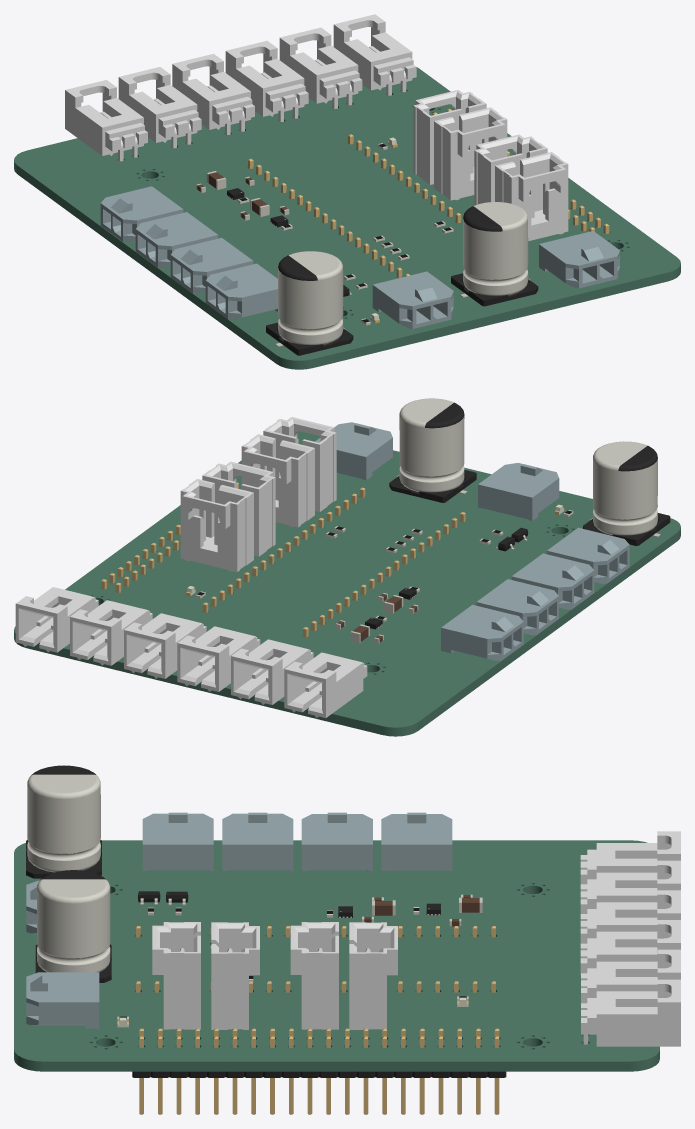
The model's file is LapisHAT.glb.
3 renders of one model, top to bottom at view 1: azimuth 30°, elevation 25°; view 2: azimuth 150°, elevation 25°; view 3: azimuth 270°, elevation 25°, orthographic. The views are drawn at different scales.
Visible parts, largest first — view 1: =>[0:1:1:14], =>[0:1:1:2] (×4), C1, C3, J7, J11, J12, J10, J8, J9, J3, J1 (+7 smaller); view 2: =>[0:1:1:14], =>[0:1:1:2] (×4), C3, C1, J7, J3, J5, J12, J9, J11, J8, J10 (+7 smaller); view 3: =>[0:1:1:14], =>[0:1:1:2] (×4), J2, C1, C3, J12, J18, J17, J6, J5, J1, J8 (+7 smaller).
Boxes of the visible parts, x1=… form: =>[0:1:1:14]: x1=14, y1=67, x2=680, y2=369; =>[0:1:1:2] (×4): x1=413, y1=90, x2=568, y2=240; C1: x1=266, y1=251, x2=353, y2=355; C3: x1=451, y1=202, x2=538, y2=306; J7: x1=65, y1=80, x2=147, y2=161; J11: x1=279, y1=27, x2=362, y2=108; J12: x1=333, y1=14, x2=416, y2=95; J10: x1=225, y1=40, x2=308, y2=121; J8: x1=118, y1=67, x2=201, y2=148; J9: x1=172, y1=53, x2=254, y2=134; J3: x1=372, y1=271, x2=453, y2=328; J1: x1=539, y1=231, x2=619, y2=288; =>[0:1:1:14]: x1=14, y1=431, x2=680, y2=736; =>[0:1:1:2] (×4): x1=180, y1=417, x2=336, y2=571; C3: x1=389, y1=398, x2=476, y2=502; C1: x1=583, y1=441, x2=670, y2=545; J7: x1=284, y1=652, x2=367, y2=717; J3: x1=478, y1=463, x2=559, y2=520; J5: x1=441, y1=604, x2=523, y2=660; J12: x1=15, y1=587, x2=98, y2=652; J9: x1=177, y1=626, x2=260, y2=691; J11: x1=70, y1=600, x2=152, y2=665; J8: x1=231, y1=639, x2=313, y2=704; J10: x1=124, y1=613, x2=206, y2=678; =>[0:1:1:14]: x1=14, y1=840, x2=659, y2=1071; =>[0:1:1:2] (×4): x1=152, y1=922, x2=397, y2=1029; J2: x1=132, y1=1028, x2=506, y2=1114; C1: x1=26, y1=765, x2=101, y2=878; C3: x1=35, y1=870, x2=111, y2=982; J12: x1=581, y1=979, x2=680, y2=1046; J18: x1=142, y1=812, x2=213, y2=870; J17: x1=222, y1=812, x2=293, y2=870; J6: x1=301, y1=812, x2=372, y2=870; J5: x1=381, y1=812, x2=452, y2=870; J1: x1=26, y1=972, x2=99, y2=1028; J8: x1=580, y1=860, x2=680, y2=913.
Bounding box in the file's own units: 0.0712 × 0.0228 × 0.0906.
